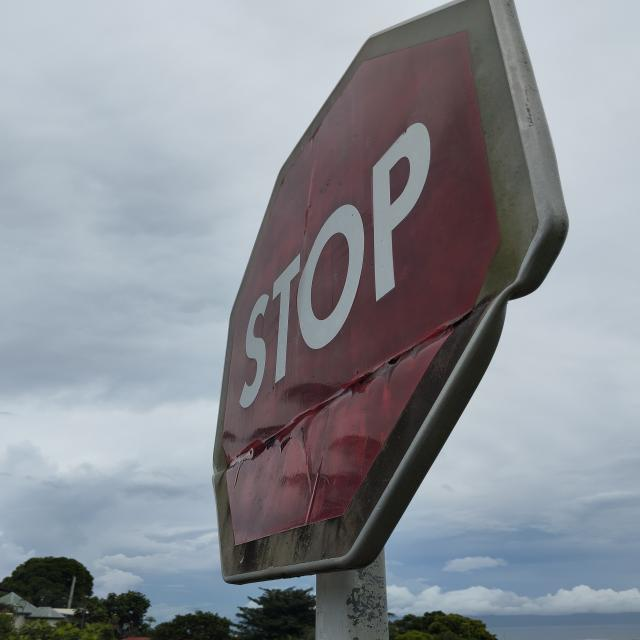Panneau-Stop: (171, 0, 575, 580)
